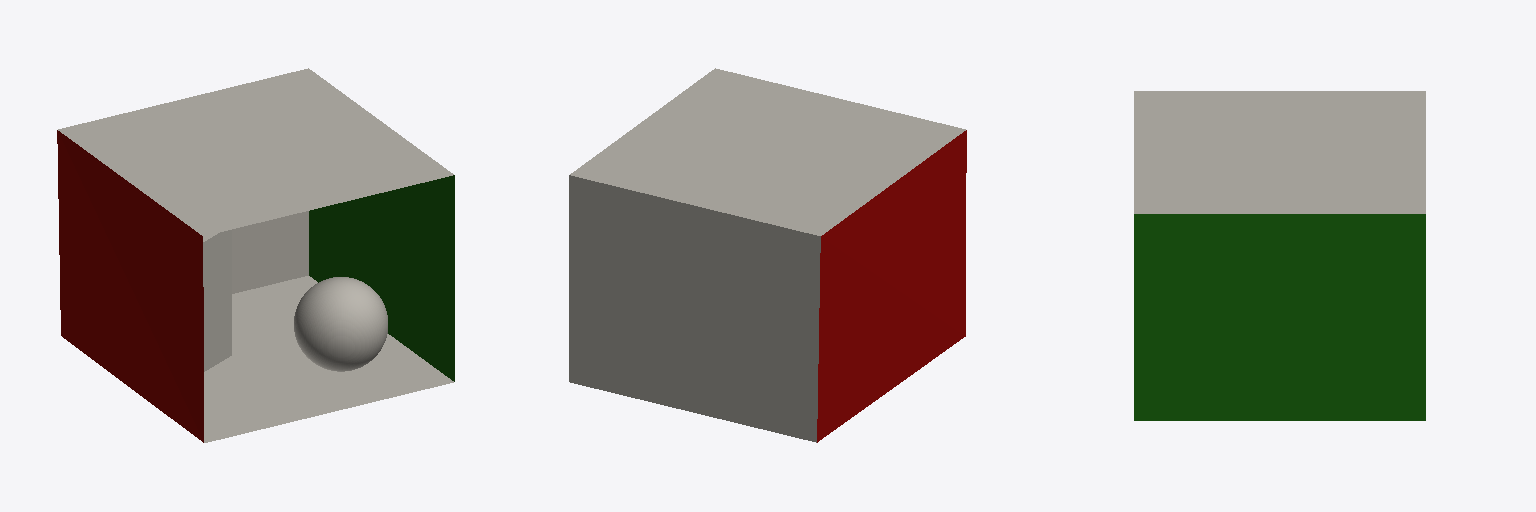
Rendered from cbox.obj.
3 renders of one model, left to right at view 1: azimuth 30°, elevation 25°; view 2: azimuth 150°, elevation 25°; view 3: azimuth 270°, elevation 25°, orthographic.
Visible parts, largest first — view 1: ceiling, leftWall, rightWall, floor, rightSphere, backWall, leftBox; view 2: backWall, ceiling, leftWall; view 3: rightWall, ceiling.
Part boxes in pixels (x1,y1,x2,y2): ceiling: (58,68,453,235); leftWall: (57,130,203,442); rightWall: (309,175,454,381); floor: (204,276,453,442); rightSphere: (294,277,387,371); backWall: (232,211,308,293); leftBox: (203,230,231,371); backWall: (569,175,820,442); ceiling: (570,68,965,235); leftWall: (817,130,966,442); rightWall: (1134,214,1425,420); ceiling: (1134,91,1425,213).
Bounding box in the file's own units: 2.02 × 1.59 × 2.03.